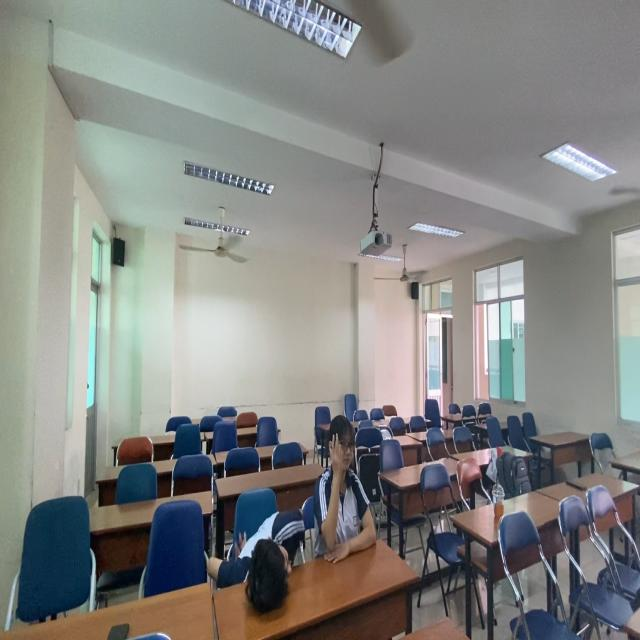raise_hand: (318, 413, 382, 569)
sleep: (210, 502, 319, 615)
